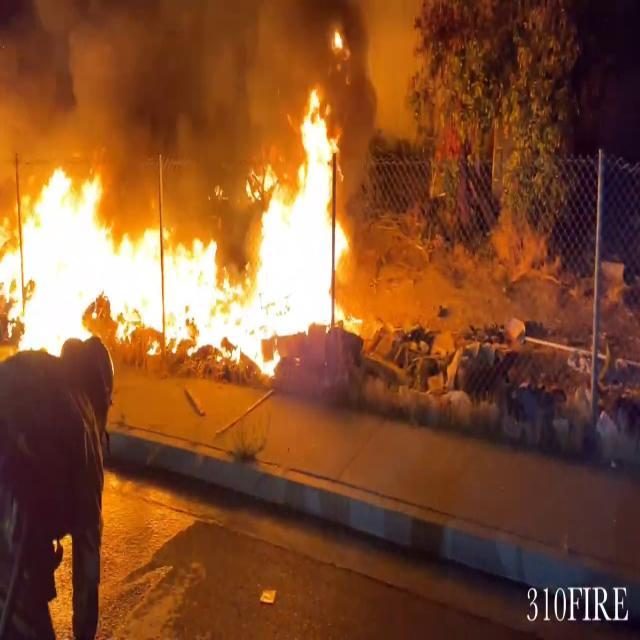Fire: (0, 148, 368, 370)
Smoke: (0, 0, 308, 183)
